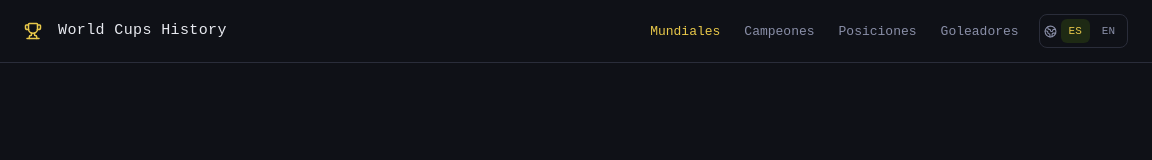
WorldCupsNavbar › changes default navigation labels when selecting English
Expected: the link "Mundiales" is shown, [650,24,720,39]
Click the button with aria-label "Inglés": (1108, 31) [1094,19,1123,43]
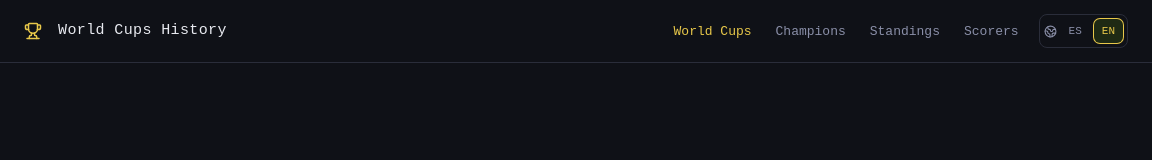
Expected: the link "Champions" is shown, [776,24,846,39]
Expected: the link "World Cups" is shown, [674,24,752,39]
